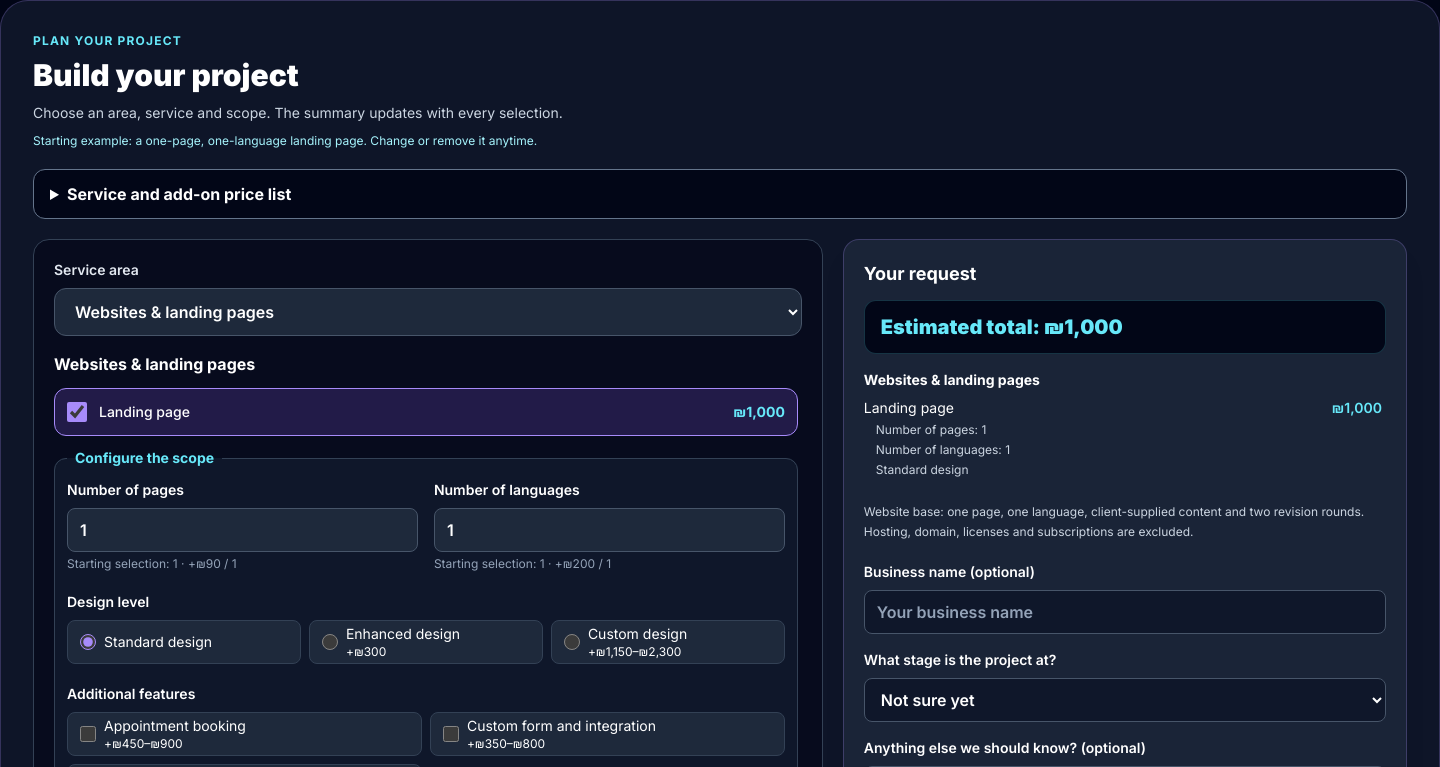
Test case: configurable quote flow › drops an untouched starter when switching to an unpriced service area
This screenshot has width=1440, height=767.
Select "Cards" in the dropdown labelled "Service area" at (428, 312), box left=54, top=288, right=802, bottom=336
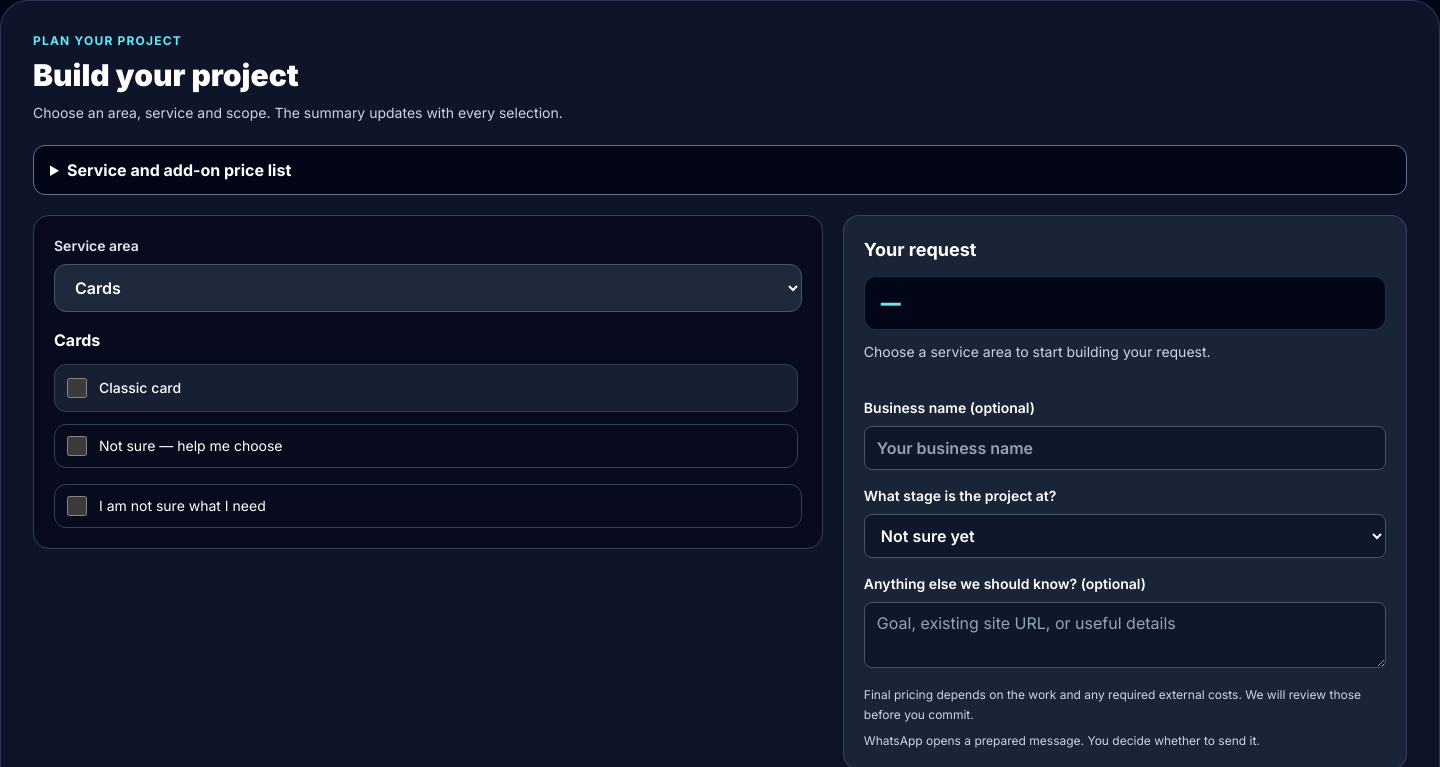
Expected: the text "Estimated total: ₪1,000" is gone
Click the checkbox labelled "Classic card" at (77, 388), box left=67, top=378, right=87, bottom=398
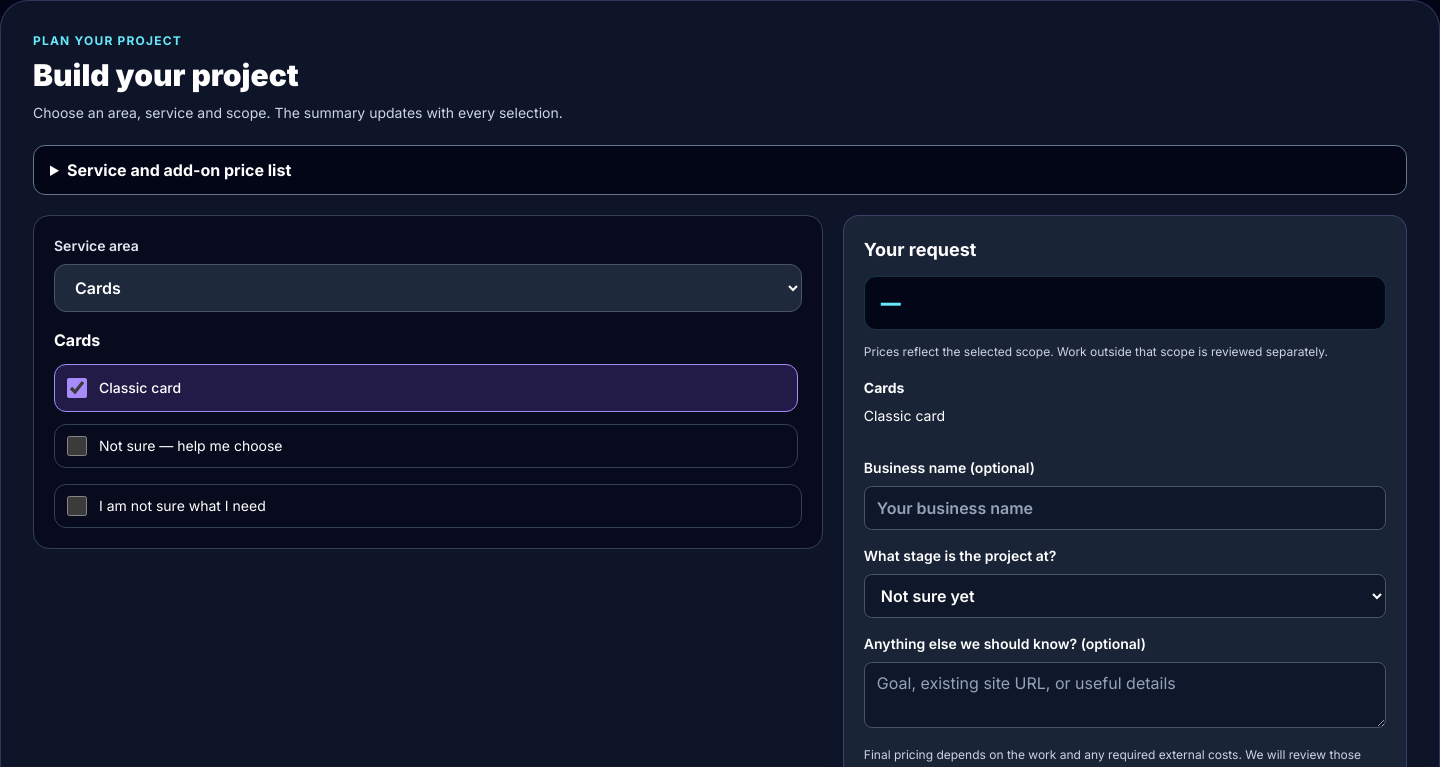
Expected: the text "Work outside that scope" is shown, left=864, top=344, right=1328, bottom=359
